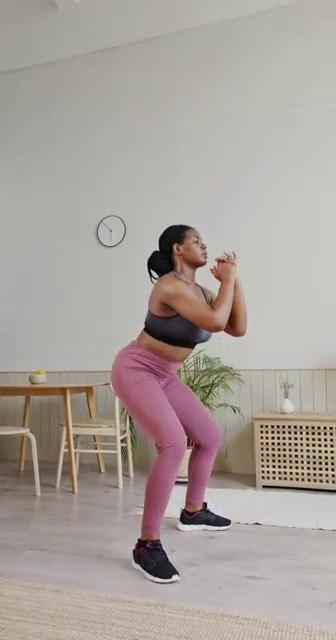Prepare: (109, 221, 251, 590)
